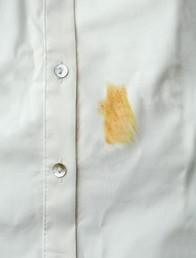gun: (96, 79, 137, 151)
